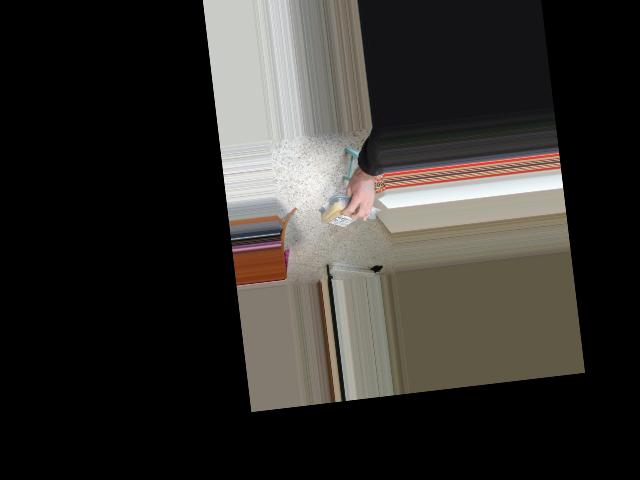cheese: (316, 196, 365, 231)
